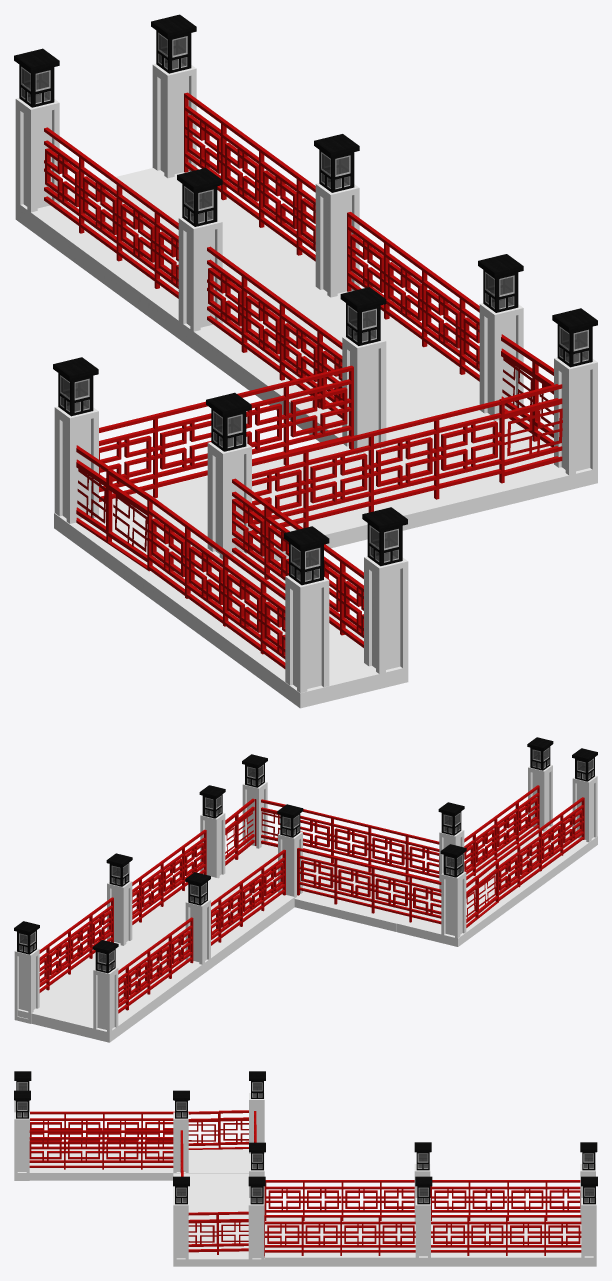
File: jambatan.obj
3 renders of one model, top to bottom at view 1: azimuth 30°, elevation 25°; view 2: azimuth 150°, elevation 25°; view 3: azimuth 270°, elevation 25°, orthographic. The views are drawn at different scales.
Parts seen in each view (by area): view 1: Mesh328 Model, Mesh121 Component5 Model, Mesh2 Component2 Model, Mesh1 Component1 Model, Mesh298 Component8 Model, Mesh209 Component6 Model, Mesh297 Component7 Model, Mesh120 Component4 Model, Mesh3 Component3 Model, Mesh331 Model, Mesh333 Model, Mesh334 Model; view 2: Mesh328 Model, Mesh2 Component2 Model, Mesh121 Component5 Model, Mesh1 Component1 Model, Mesh298 Component8 Model, Mesh120 Component4 Model, Mesh3 Component3 Model, Mesh209 Component6 Model, Mesh297 Component7 Model, Mesh331 Model, Mesh333 Model; view 3: Mesh328 Model, Mesh209 Component6 Model, Mesh297 Component7 Model, Mesh3 Component3 Model, Mesh120 Component4 Model, Mesh298 Component8 Model, Mesh1 Component1 Model, Mesh331 Model, Mesh330 Model, Mesh332 Model, Mesh335 Model, Mesh329 Model.
Part boxes in pixels (x1,y1,x2,y2): Mesh328 Model: (15,64,597,708); Mesh121 Component5 Model: (252,400,504,533); Mesh2 Component2 Model: (99,365,353,501); Mesh1 Component1 Model: (147,495,285,668); Mesh298 Component8 Model: (44,127,178,298); Mesh209 Component6 Model: (347,212,479,381); Mesh297 Component7 Model: (184,92,315,261); Mesh120 Component4 Model: (207,246,342,418); Mesh3 Component3 Model: (232,478,363,647); Mesh331 Model: (76,445,152,571); Mesh333 Model: (499,384,562,483); Mesh334 Model: (504,408,562,456); Mesh328 Model: (14,764,597,1042); Mesh2 Component2 Model: (297,848,441,924); Mesh121 Component5 Model: (300,809,439,881); Mesh1 Component1 Model: (495,797,584,901); Mesh298 Component8 Model: (118,917,193,1013); Mesh120 Component4 Model: (211,849,285,945); Mesh3 Component3 Model: (464,785,539,879); Mesh209 Component6 Model: (132,829,206,924); Mesh297 Component7 Model: (39,897,113,992); Mesh331 Model: (466,860,498,927); Mesh333 Model: (255,799,285,847); Mesh328 Model: (14,1093,596,1266); Mesh209 Component6 Model: (264,1215,415,1257); Mesh297 Component7 Model: (431,1215,581,1255); Mesh3 Component3 Model: (29,1130,173,1169); Mesh120 Component4 Model: (264,1180,414,1220); Mesh298 Component8 Model: (430,1180,580,1220); Mesh1 Component1 Model: (30,1111,174,1150); Mesh331 Model: (188,1110,248,1149); Mesh330 Model: (188,1122,218,1143); Mesh332 Model: (220,1121,248,1142); Mesh335 Model: (188,1223,216,1244); Mesh329 Model: (219,1222,248,1243).
Size of the model in its own units: 237 by 81.37 by 520.
6 materials, 1 textured.
